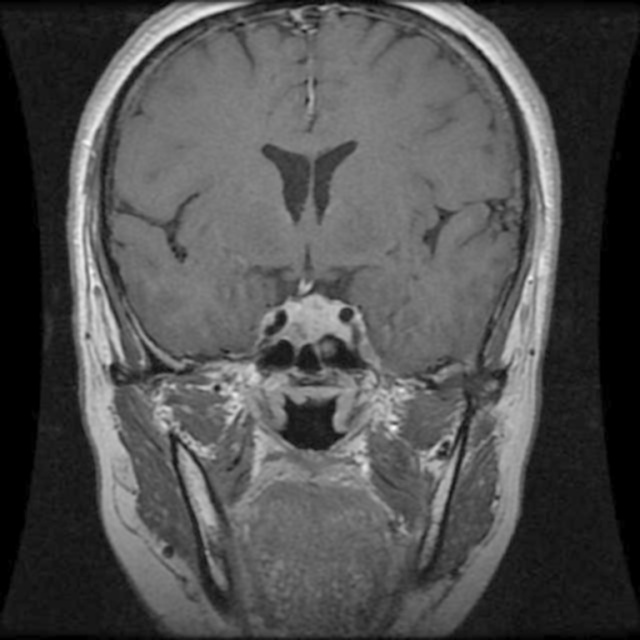no tumor: (292, 290, 352, 362)
